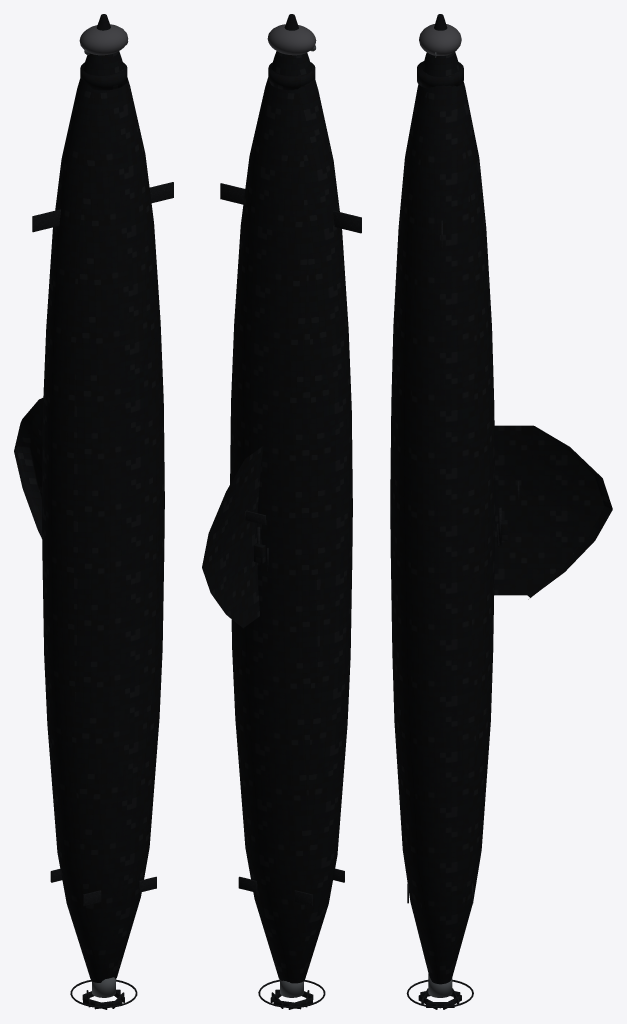
File: enemy_submarine.glb
The picture shows the model from 3 angles, left to right: view 1: azimuth 30°, elevation 25°; view 2: azimuth 150°, elevation 25°; view 3: azimuth 270°, elevation 25°; orthographic projection.
Visible parts, largest first — view 1: SubHull; view 2: SubHull; view 3: SubHull.
Part boxes in pixels (bbox=[...]): SubHull: bbox=[14, 14, 173, 1009]; SubHull: bbox=[202, 14, 361, 1009]; SubHull: bbox=[390, 14, 612, 1009].
Size of the model in its own units: 14.2 by 94.78 by 19.39.
Materials: 5 (3 with a texture image).
